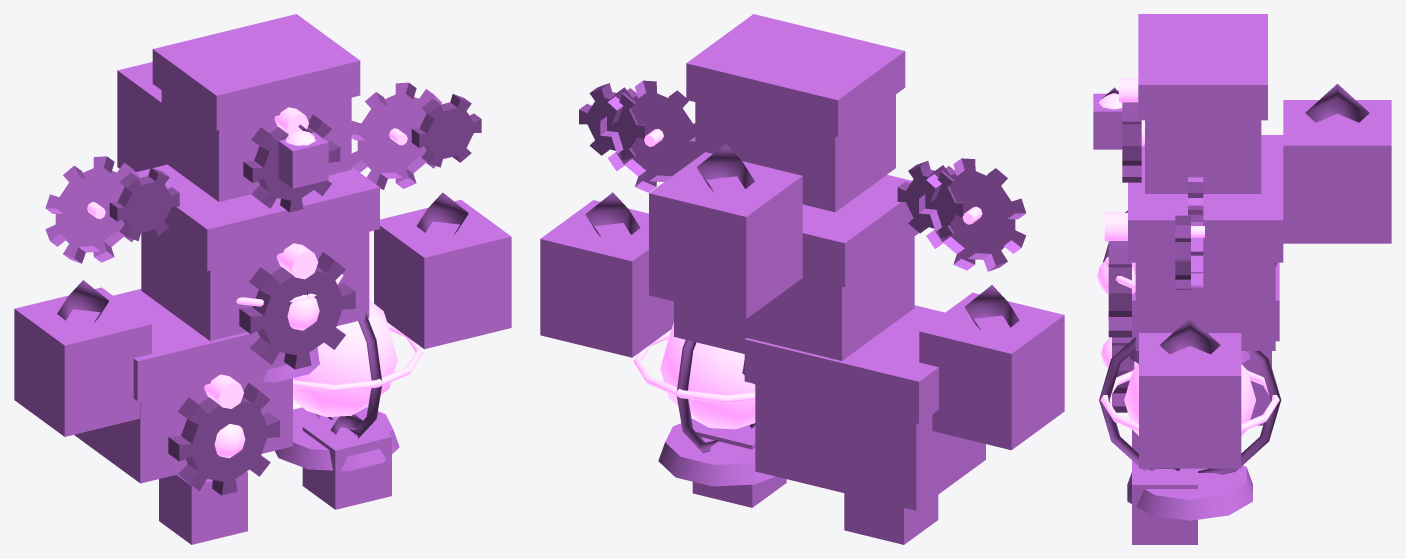
File: golem_129.glb
3 renders of one model, left to right at view 1: azimuth 30°, elevation 25°; view 2: azimuth 150°, elevation 25°; view 3: azimuth 270°, elevation 25°, orthographic. The views are drawn at different scales.
Parts seen in each view (by area): view 1: Body, Detail, Glow; view 2: Body, Detail, Glow; view 3: Body, Detail, Glow.
Part boxes in pixels (x1,y1,x2,y2): Body: [14, 14, 511, 544]; Detail: [57, 94, 481, 495]; Glow: [87, 107, 423, 458]; Body: [540, 14, 1064, 544]; Detail: [579, 83, 1019, 453]; Glow: [633, 129, 982, 429]; Body: [1093, 14, 1391, 544]; Detail: [1099, 84, 1369, 474]; Glow: [1097, 78, 1279, 435].
Bounding box in the file's own units: 1.27 × 1.19 × 0.7227.
